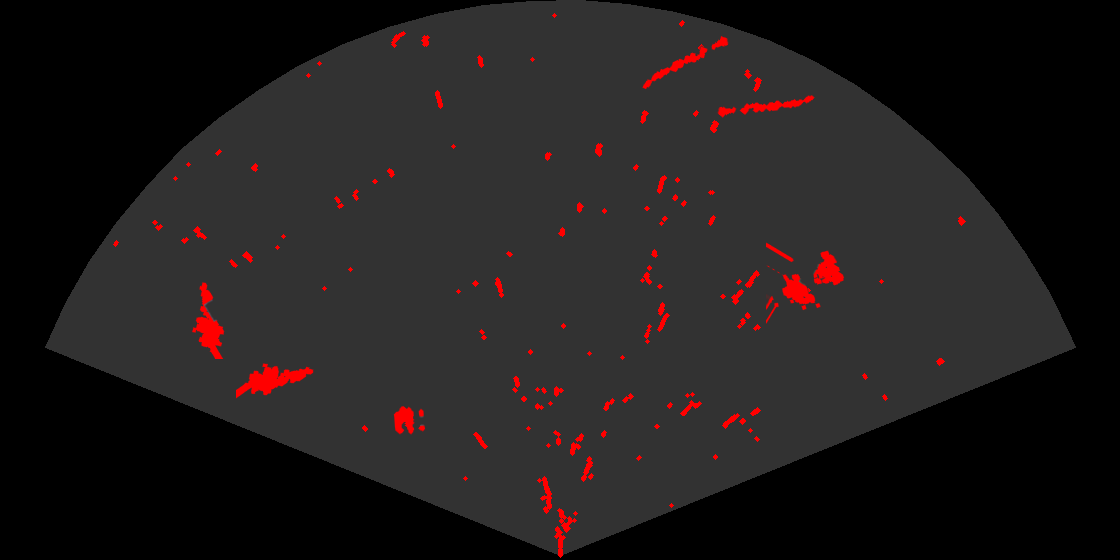ball: (392, 405, 427, 436)
cage: (766, 241, 846, 325)
chain: (641, 34, 730, 91), (716, 94, 816, 119)
frogman: (236, 362, 315, 400), (190, 281, 226, 359)
